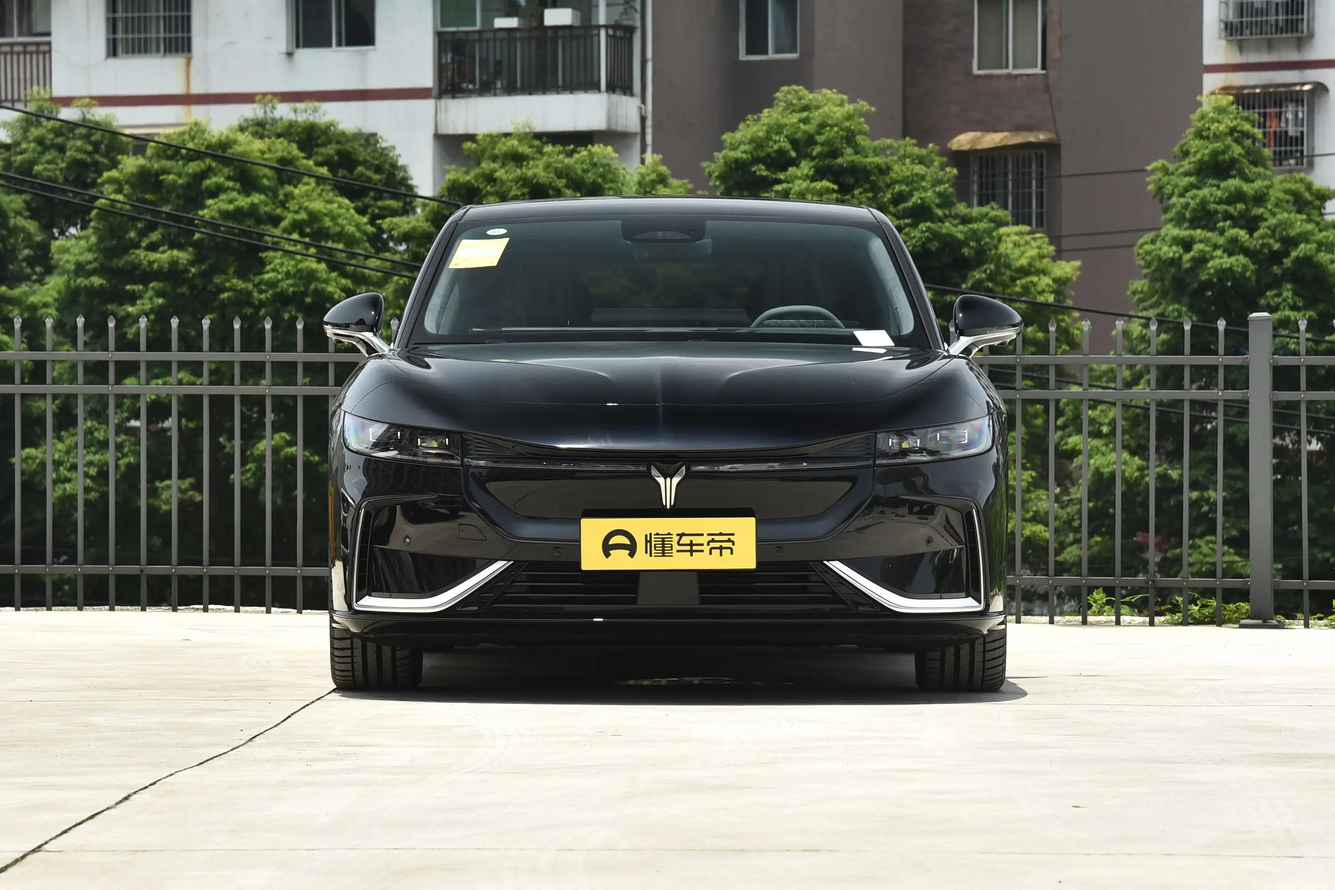VOYAH: (652, 465, 685, 508)
